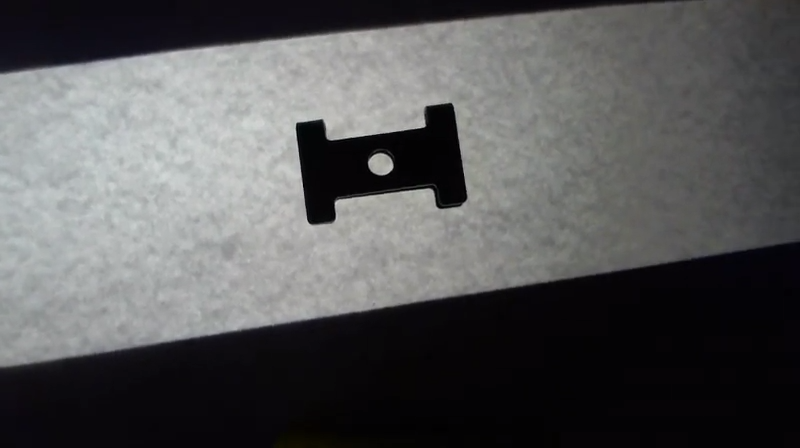O002: (292, 100, 471, 229)
